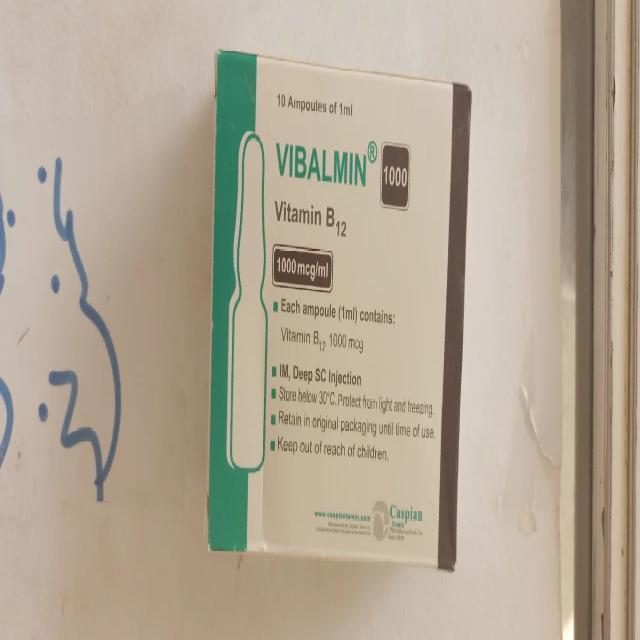drug-name: (269, 137, 416, 196)
